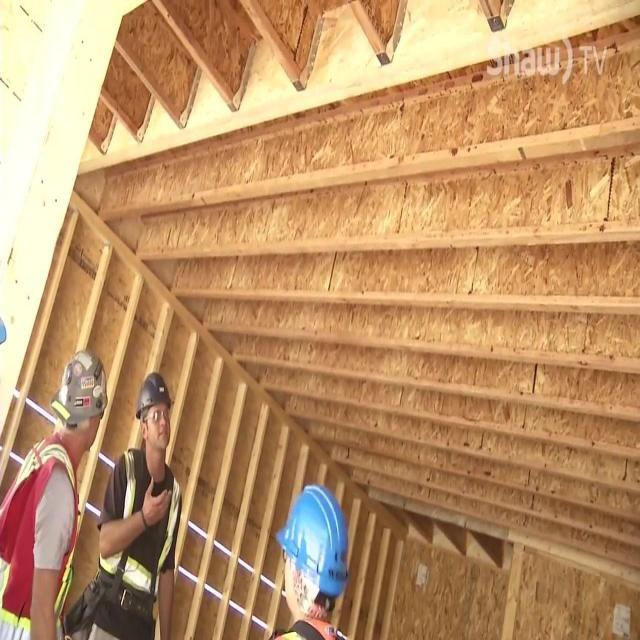Vest: (0, 436, 79, 638), (98, 449, 182, 595), (274, 621, 351, 639)
